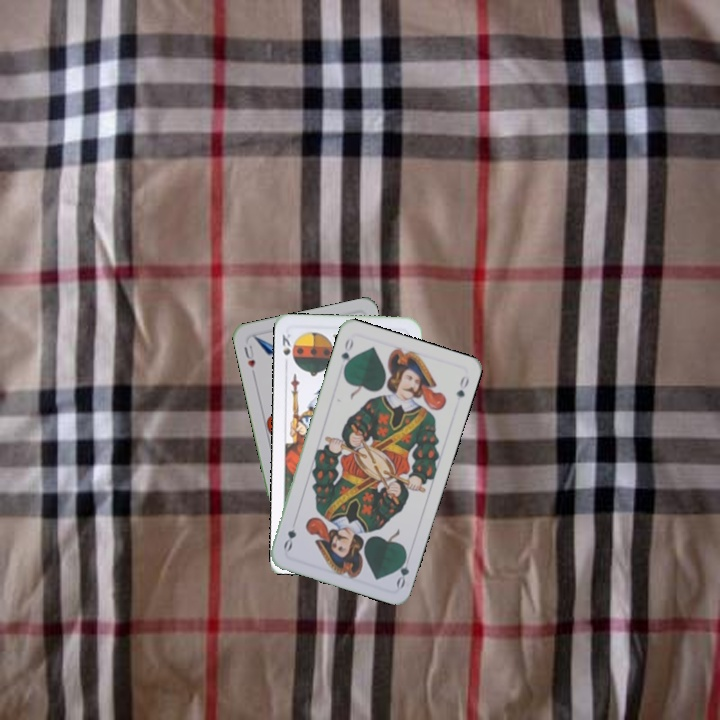GO: (392, 549, 412, 590), (337, 334, 356, 374)
HU: (240, 341, 258, 378)
SK: (278, 330, 294, 358)
